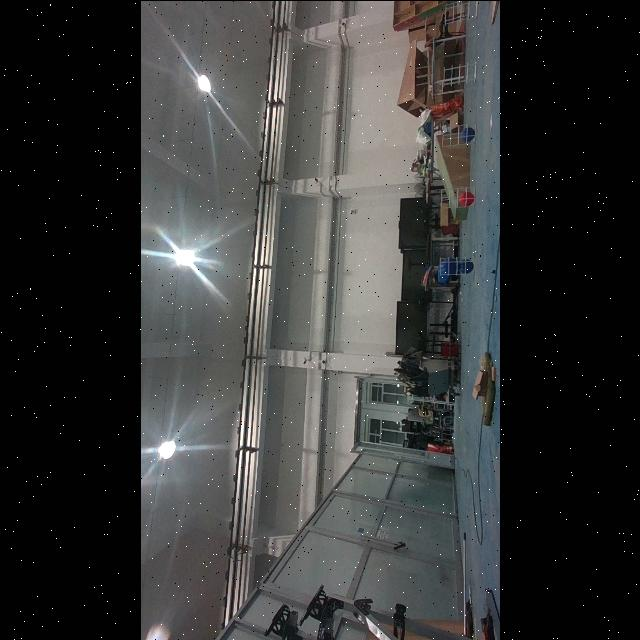B: (439, 257, 458, 277), (462, 124, 474, 142), (460, 257, 472, 273)
R: (458, 190, 474, 206)
S: (437, 183, 479, 211), (440, 59, 480, 87), (436, 252, 476, 278), (439, 121, 477, 147), (440, 0, 482, 22)
